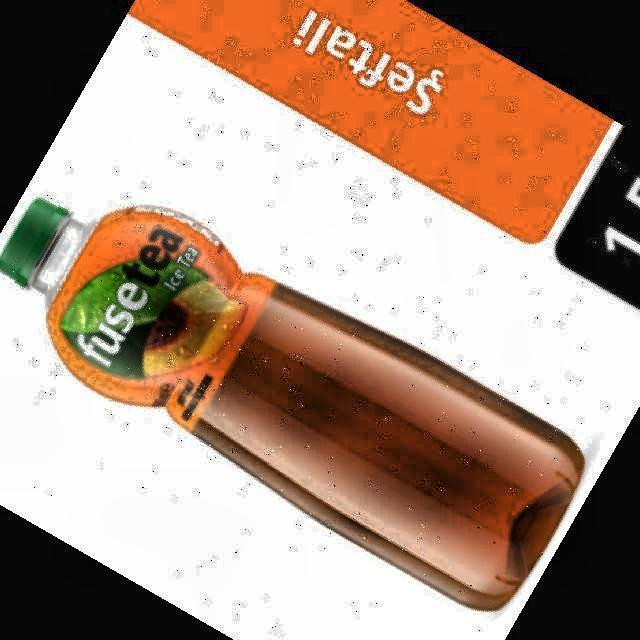plastic: (0, 199, 584, 608)
